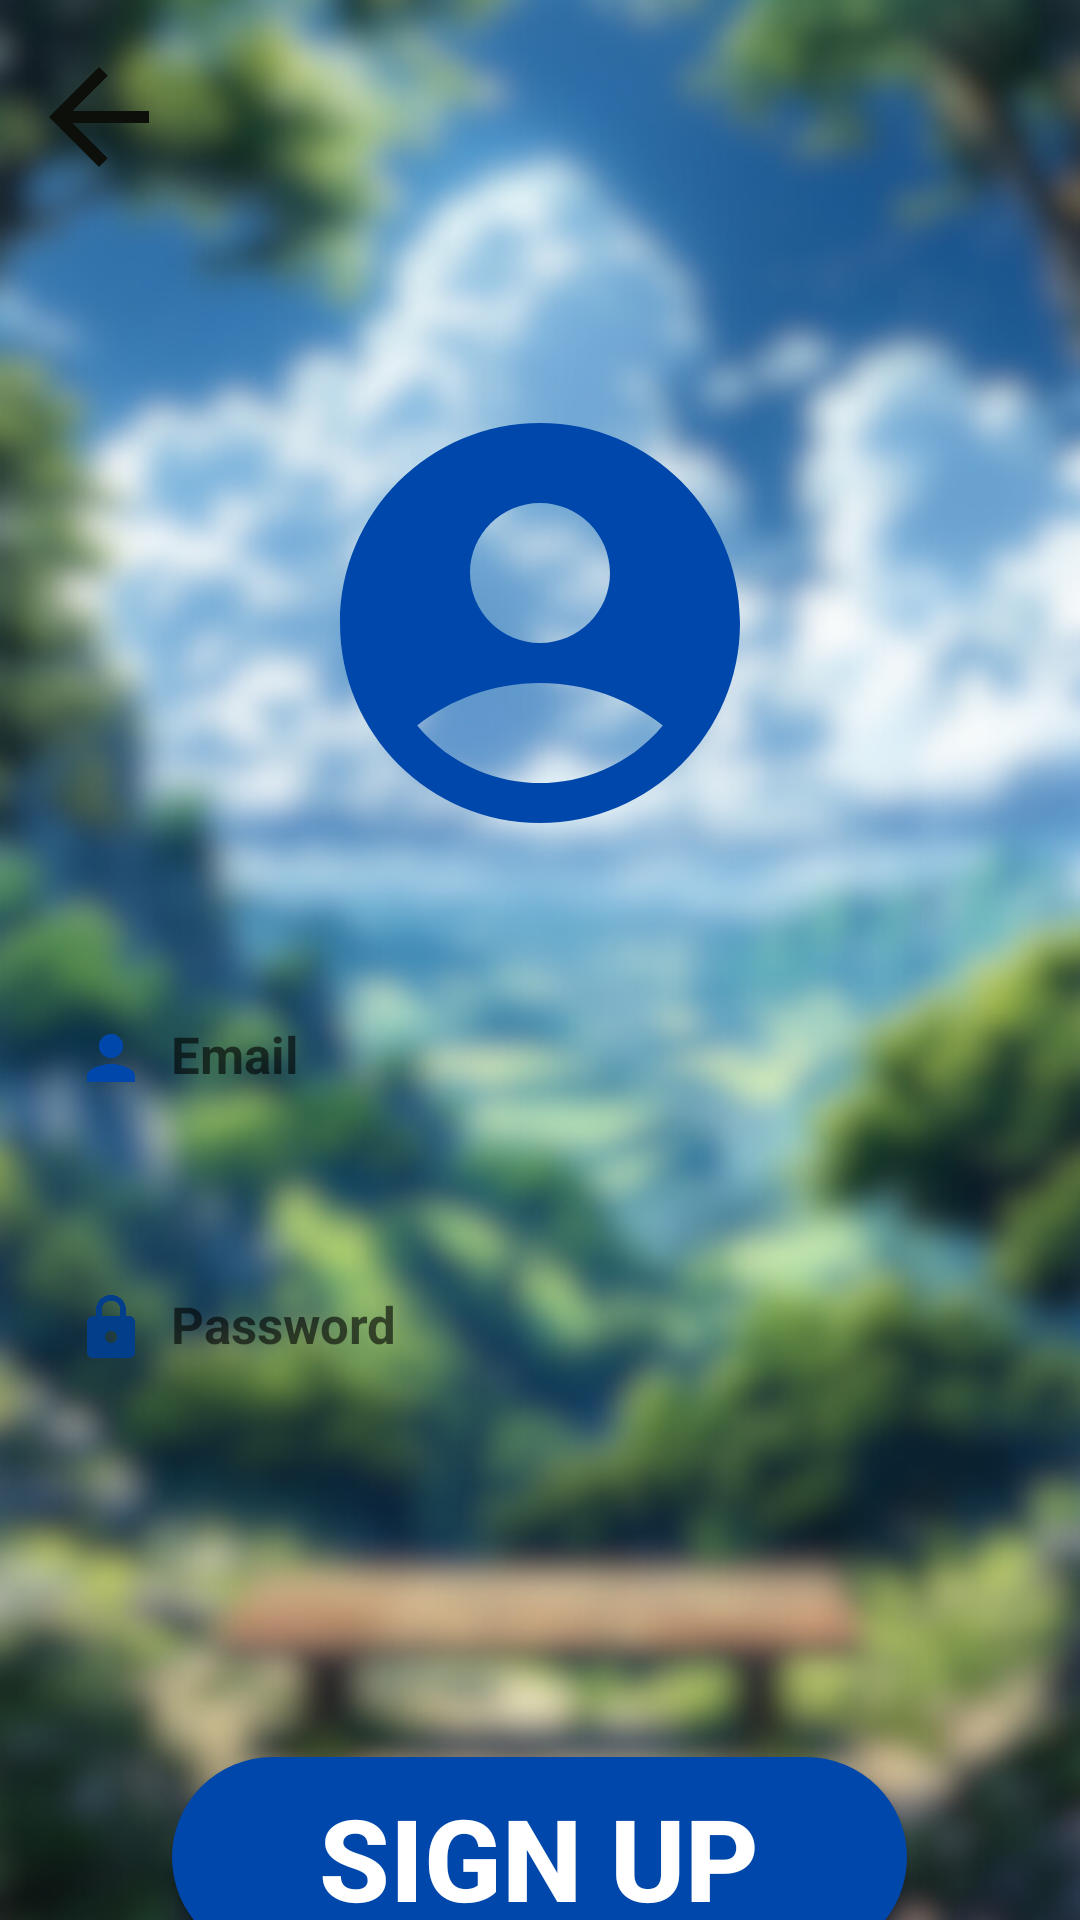

Point at icon controls on the screen. Image size 1080*1920, points as (x=x, y=y).
arrow: (x=99, y=117)
